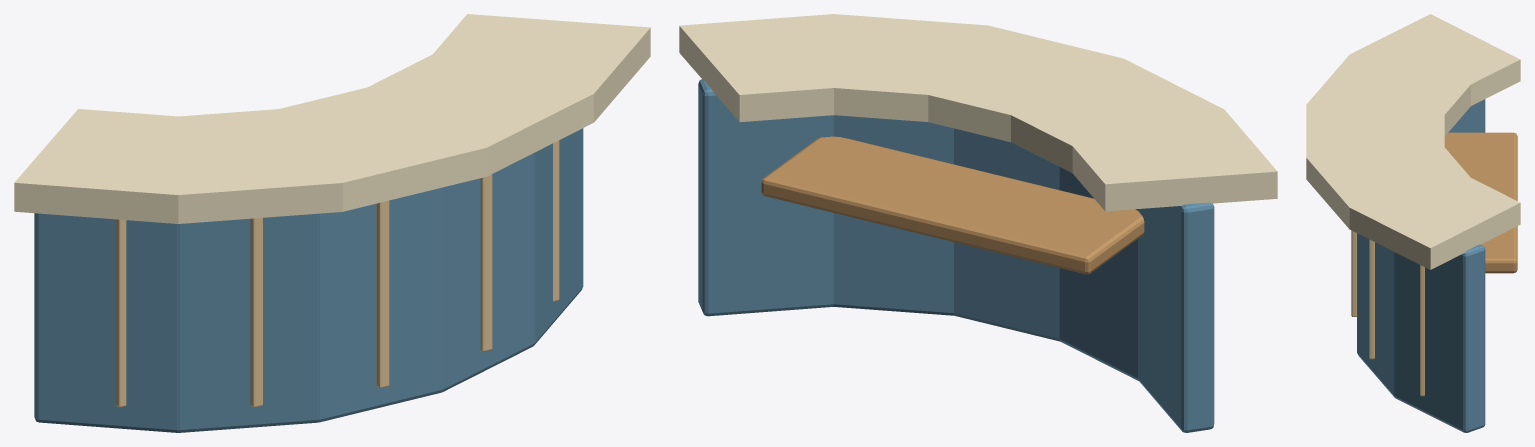
File: S038_reception_desk.glb
3 renders of one model, left to right at view 1: azimuth 30°, elevation 25°; view 2: azimuth 150°, elevation 25°; view 3: azimuth 270°, elevation 25°, orthographic. The views are drawn at different scales.
Visible parts, largest first — view 1: continuous_countertop, angled_front_panel, angled_front_panel.001, angled_front_panel.002, angled_front_panel.003, angled_front_panel.004, front_stile.002, front_stile.001, front_stile.003, front_stile, front_stile.004; view 2: continuous_countertop, staff_workshelf, angled_front_panel.004, angled_front_panel, angled_front_panel.003, angled_front_panel.002, angled_front_panel.001; view 3: continuous_countertop, angled_front_panel.004, staff_workshelf, angled_front_panel.003, angled_front_panel, front_stile.003, front_stile.004, front_stile.002.
Part boxes in pixels (left/top/right/bottom): continuous_countertop: left=14, top=14, right=650, bottom=223; angled_front_panel: left=34, top=213, right=178, bottom=432; angled_front_panel.001: left=178, top=213, right=318, bottom=432; angled_front_panel.002: left=318, top=187, right=442, bottom=422; angled_front_panel.003: left=442, top=153, right=534, bottom=392; angled_front_panel.004: left=533, top=128, right=583, bottom=345; front_stile.002: left=376, top=200, right=389, bottom=388; front_stile.001: left=250, top=218, right=262, bottom=407; front_stile.003: left=480, top=174, right=492, bottom=351; front_stile: left=116, top=219, right=126, bottom=407; front_stile.004: left=553, top=140, right=559, bottom=301; continuous_countertop: left=679, top=14, right=1277, bottom=211; staff_workshelf: left=761, top=136, right=1144, bottom=274; angled_front_panel.004: left=698, top=79, right=833, bottom=316; angled_front_panel: left=1138, top=202, right=1214, bottom=432; angled_front_panel.003: left=833, top=115, right=954, bottom=315; angled_front_panel.002: left=954, top=128, right=1060, bottom=341; angled_front_panel.001: left=1059, top=167, right=1138, bottom=380; continuous_countertop: left=1306, top=14, right=1520, bottom=269; angled_front_panel.004: left=1394, top=244, right=1485, bottom=432; staff_workshelf: left=1444, top=132, right=1517, bottom=273; angled_front_panel.003: left=1357, top=233, right=1394, bottom=397; angled_front_panel: left=1448, top=99, right=1485, bottom=132; front_stile.003: left=1369, top=239, right=1374, bottom=359; front_stile.004: left=1420, top=265, right=1424, bottom=396; front_stile.002: left=1351, top=230, right=1356, bottom=316.
Size of the model in its own units: 2.76 by 1.12 by 1.07.
